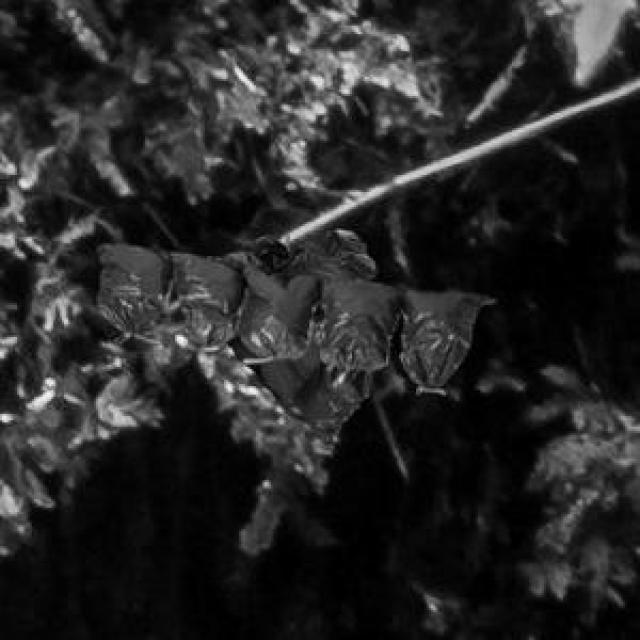miscellaneous trash: (94, 239, 488, 386), (166, 226, 371, 446)
